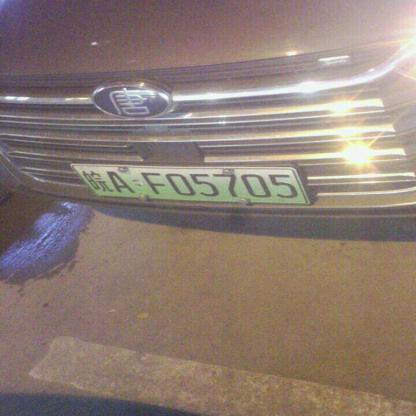lp: (71, 164, 311, 204)
